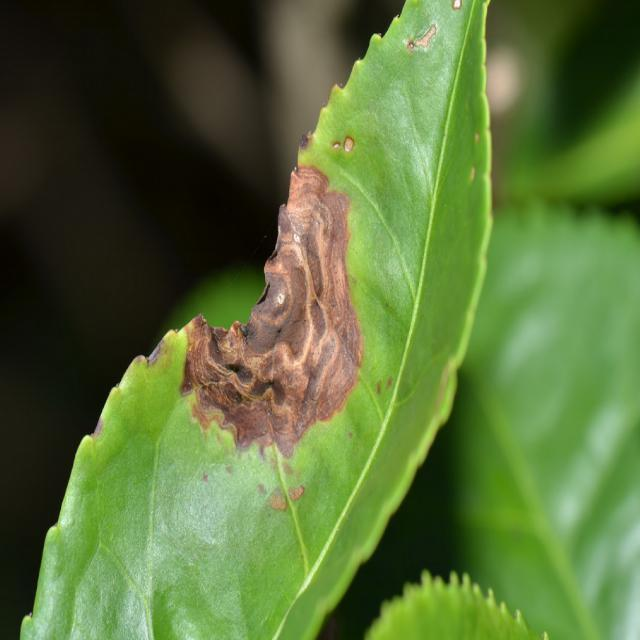Tea cloud leaf blight: (181, 164, 376, 440)
